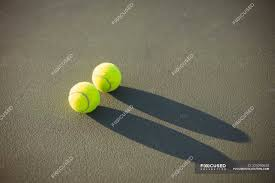tennis_ball: (67, 81, 100, 114), (91, 61, 121, 94)
